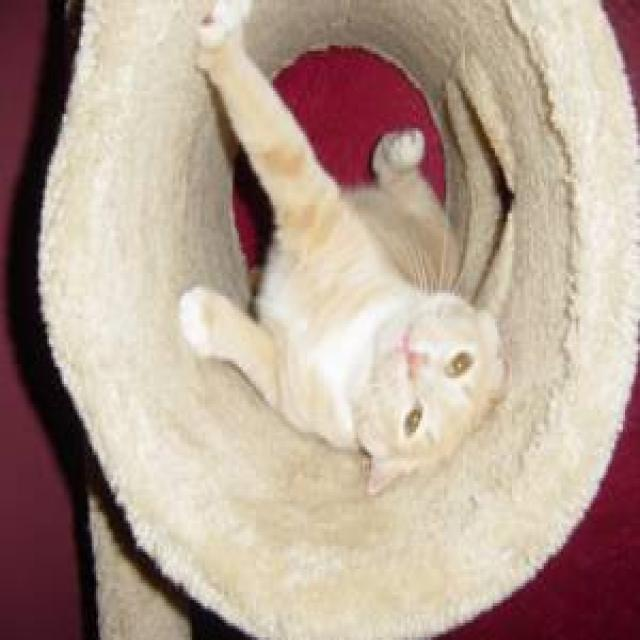Abyssinian: (352, 269, 520, 500)
